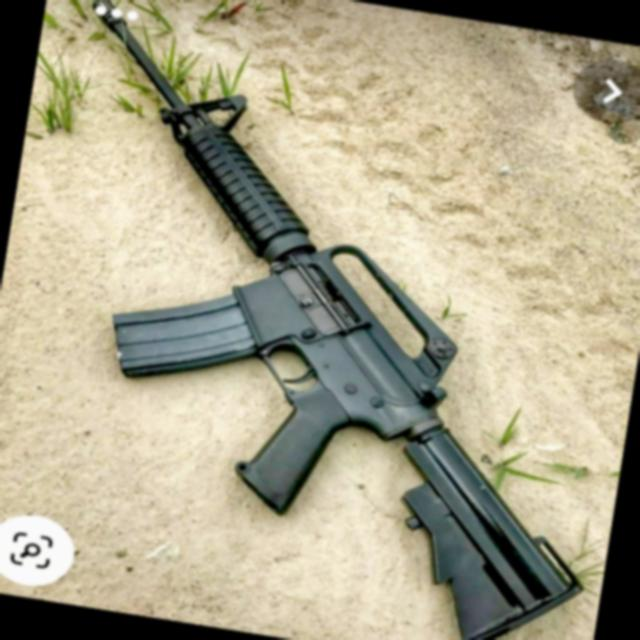m16: (15, 0, 542, 572)
